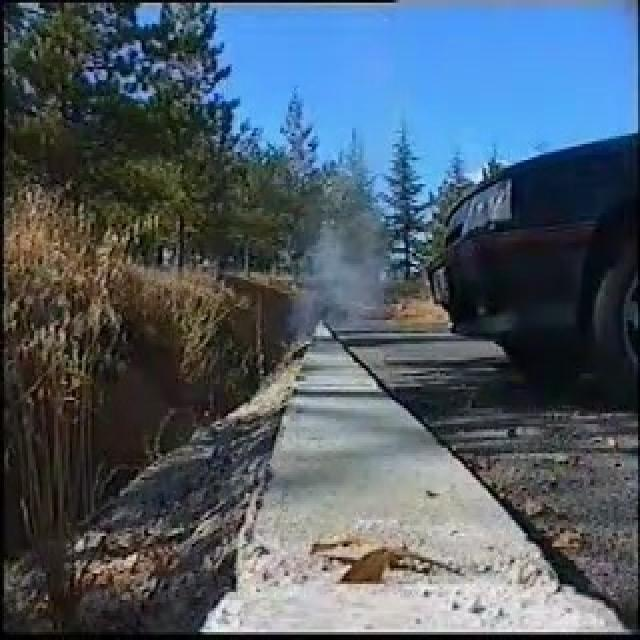Smoke: (290, 246, 356, 338)
